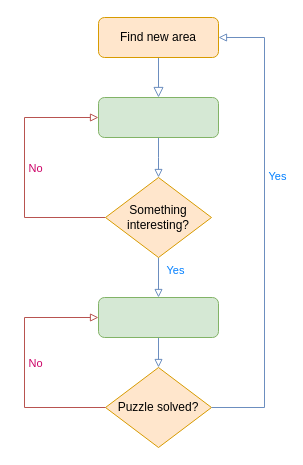
Some shapes in this 303 by 465 pixel diagram are drawn without their labels. The shapes that lost their labels are listed below. From the top down, each one's box as (x1, y1, x2, y2) in pixels, then its label:
(98, 96, 218, 138): Explore
(98, 296, 218, 338): Investigate
